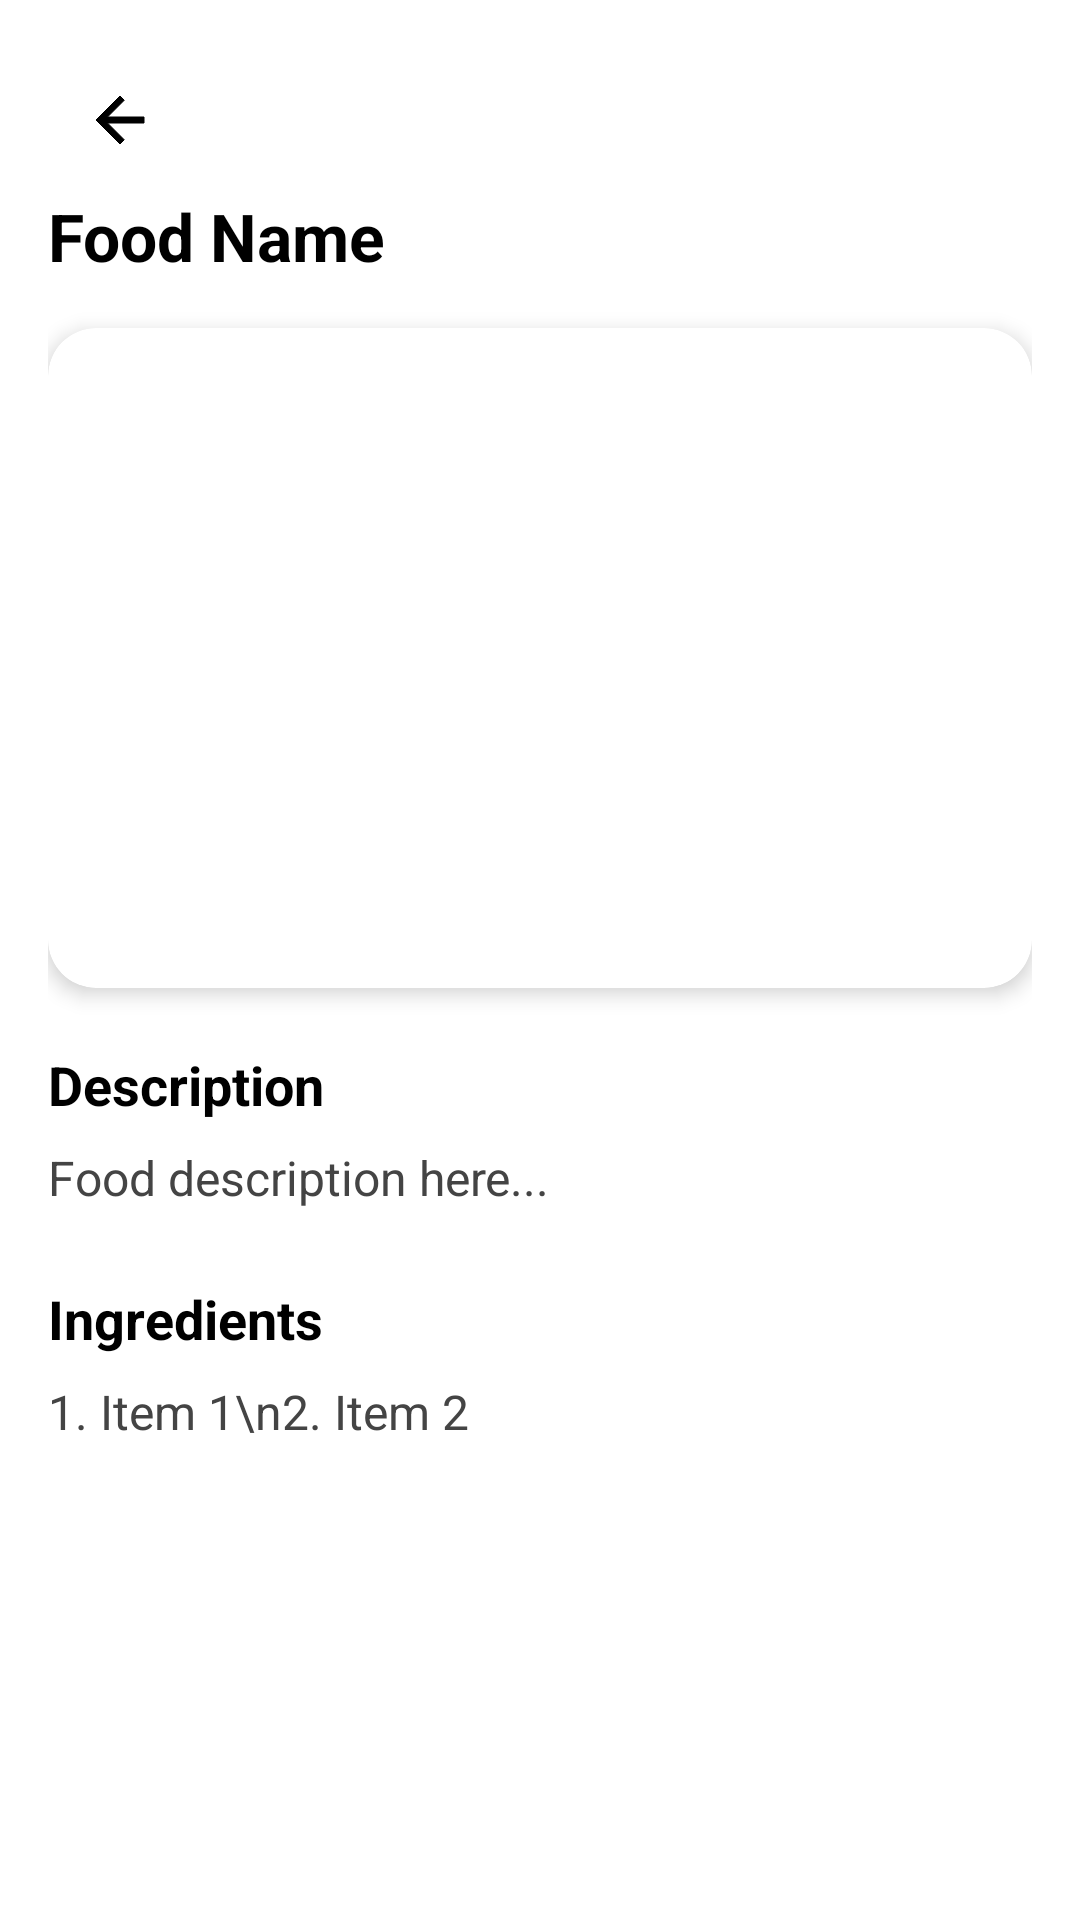

Where icons sit on this 1080 × 1920 app screen, as (x1, y1, x2, y2):
Back: (96, 96, 145, 144)
